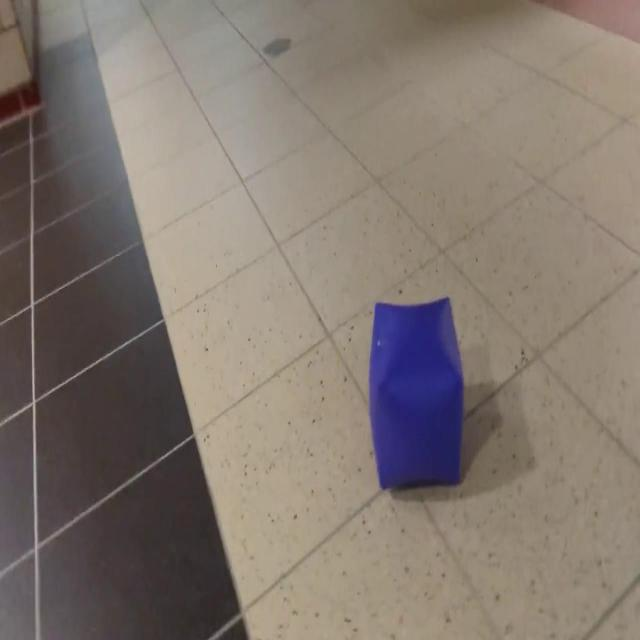frc_cube: (368, 298, 466, 492)
